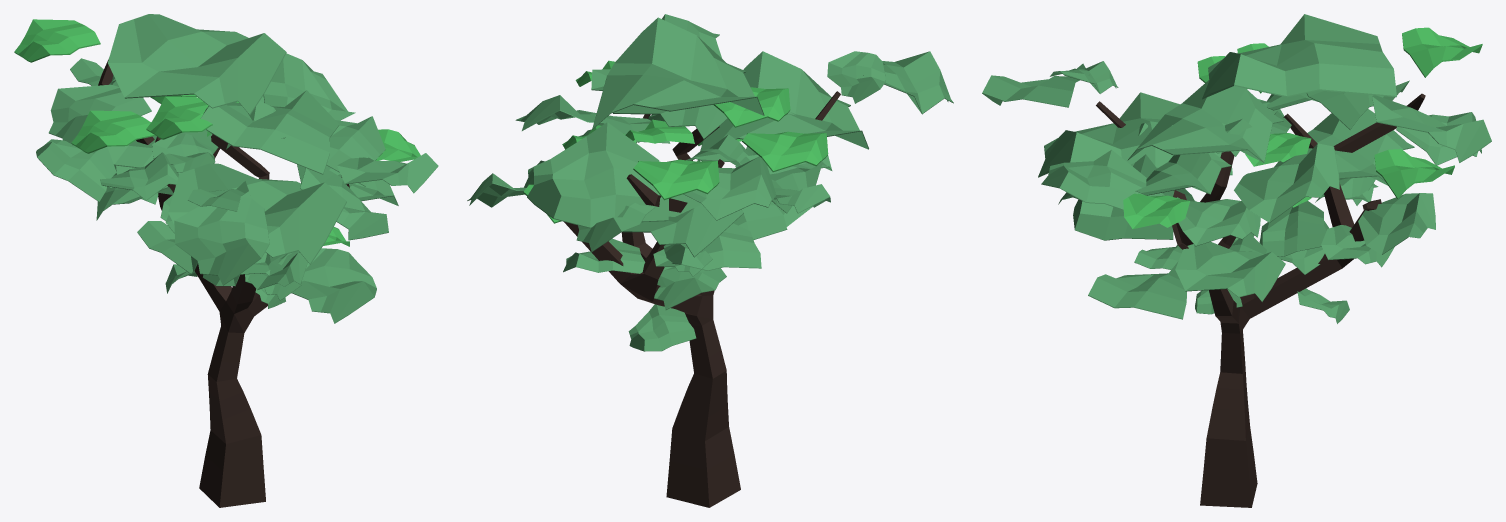
File: Tree2.fbx
The picture shows the model from 3 angles, left to right: view 1: azimuth 30°, elevation 25°; view 2: azimuth 150°, elevation 25°; view 3: azimuth 270°, elevation 25°; orthographic projection. The views are drawn at different scales.
Parts seen in each view (by area): view 1: Plane.001, Cube; view 2: Plane.001, Cube; view 3: Plane.001, Cube.
Part boxes in pixels (x1,y1,x2,y2): Plane.001: (14, 14, 438, 323); Cube: (98, 59, 349, 507); Plane.001: (467, 14, 953, 351); Cube: (564, 91, 840, 507); Plane.001: (982, 14, 1491, 323); Cube: (1096, 93, 1425, 507).
Size of the model in its own units: 654 by 877 by 880.
